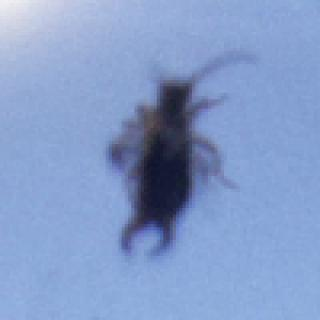earwig: (108, 47, 265, 256)
